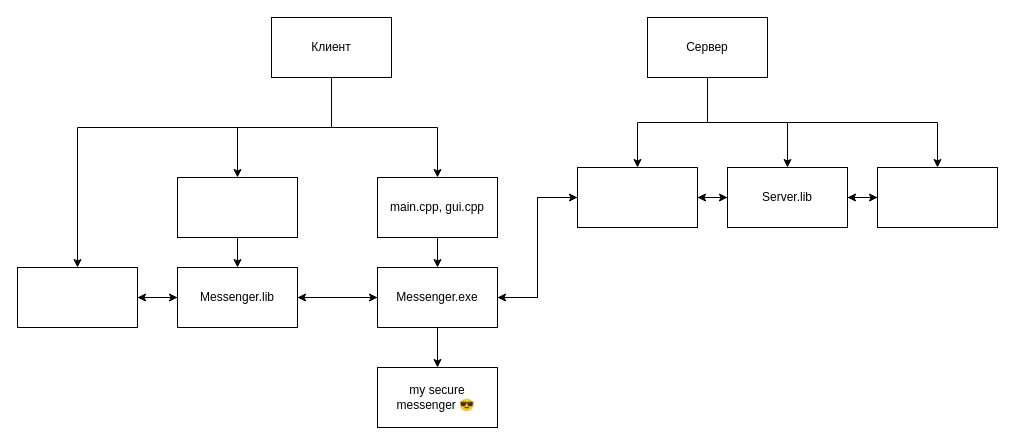
Image size: 1015x445. Some labels were removed from this diagram. Here are the shapes that lost their labels. From the top down, the centre of each, then its label:
At (237,207): "interface.h, actions.h".
At (637,197): "Server.exe".
At (937,197): "mySQL Server DB".
At (77,297): "mySQL DB".
